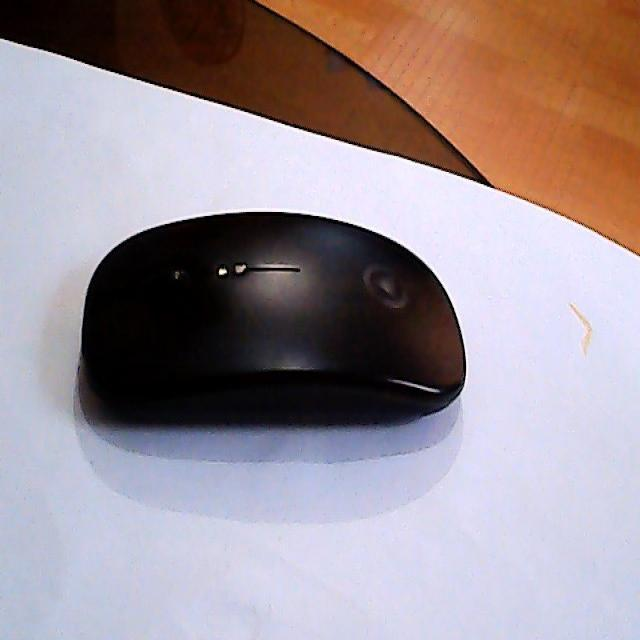Mouse: (79, 209, 469, 423)
